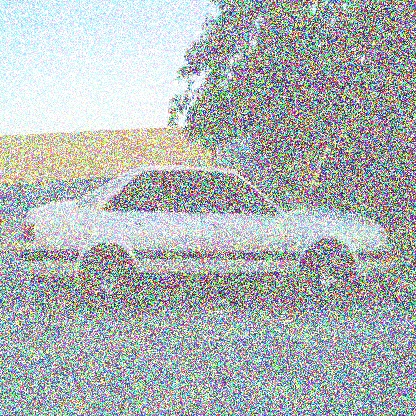Vehicle: (18, 164, 394, 312)
